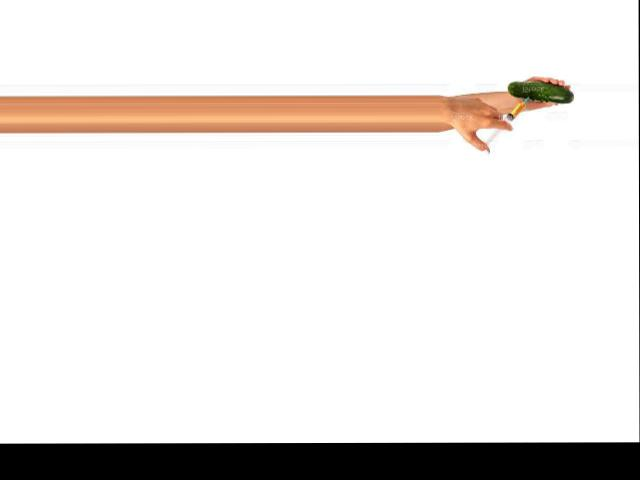cucumber: (508, 81, 575, 103)
